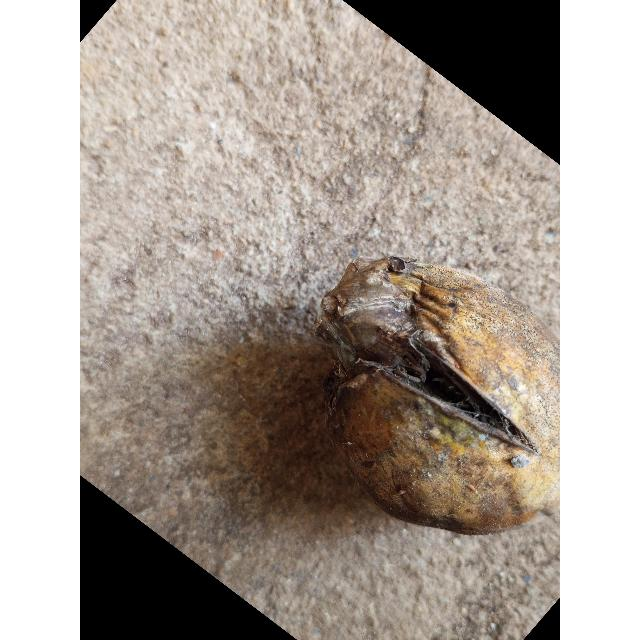damaged: (313, 256, 560, 536)
